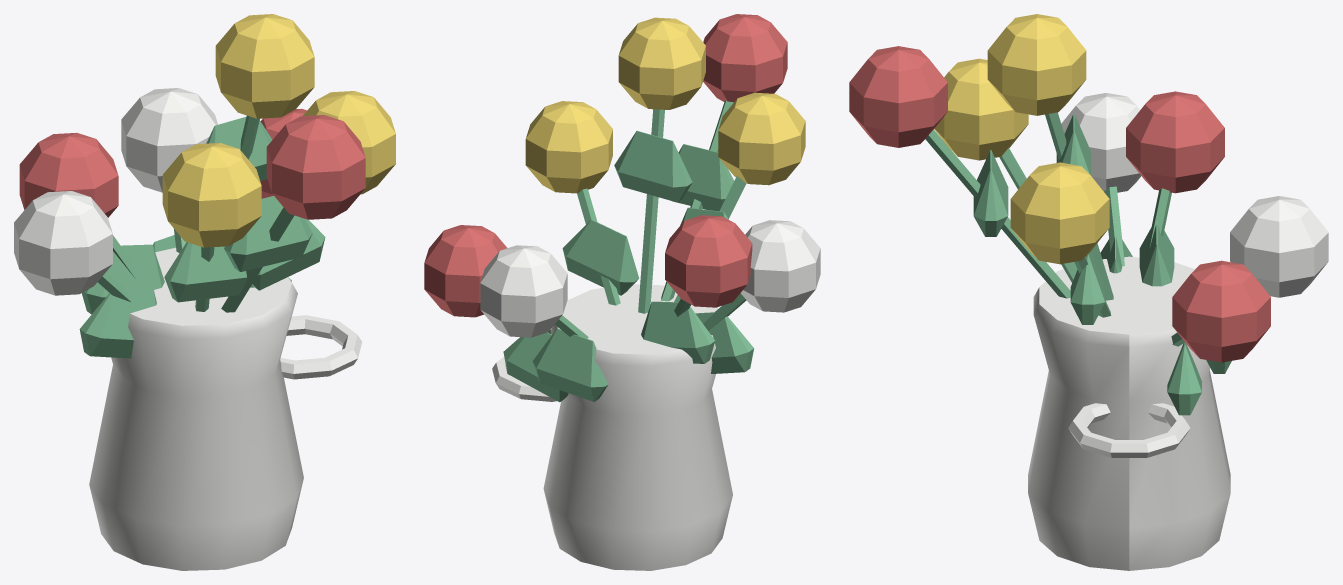
3 views of the same model, side by side, from view 1: azimuth 30°, elevation 25°; view 2: azimuth 150°, elevation 25°; view 3: azimuth 270°, elevation 25° (orthographic). The views are drawn at different scales.
Visible parts, largest first — view 1: flower-arrangement; view 2: flower-arrangement; view 3: flower-arrangement.
Boxes of the visible parts, x1,y1,x2,y2 form: flower-arrangement: (14,14,395,570); flower-arrangement: (424,14,820,570); flower-arrangement: (849,14,1328,570).
Bounding box in the file's own units: 0.3656 × 0.505 × 0.4156.
